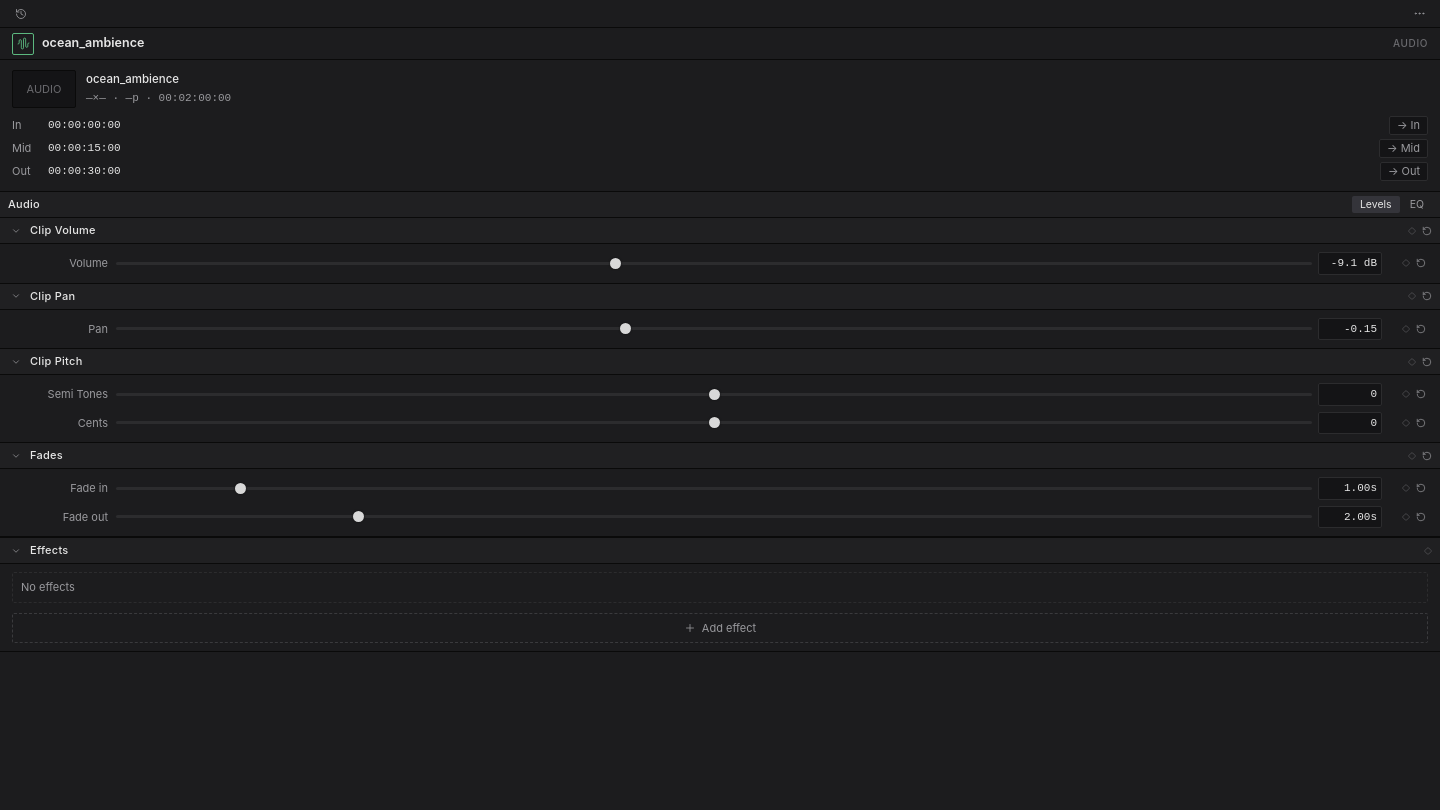
Test: Inspector (R20-W3 D4 — type-driven, no tab strip) › Audio sub-tabs: tablist semantics with tab/tabpanel pairing (spec 18 §11.6)
Expected: the panel named "Levels" is shown, [0,218,1439,537]
Note: switching hides/shows the pair (aria-labelledby back-references)
Click the tab with test id "shell-inspector-subtab-eq" at x=1417, y=204, box [1402,196,1432,213]
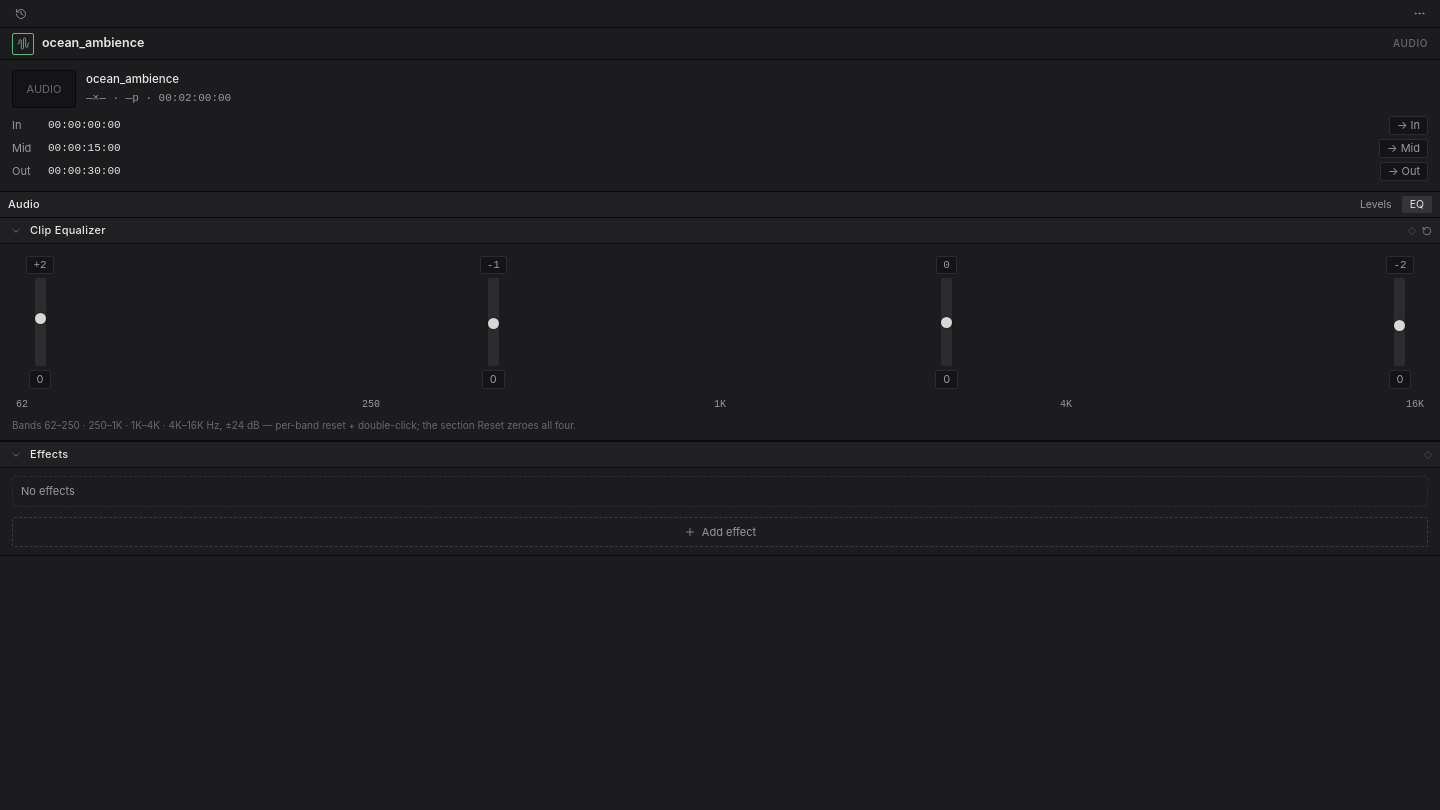
Expected: the panel with id "insp-audio-eq" is shown, [0,218,1439,441]
Expected: the element with test id "shell-inspector-eq" is shown, [12,252,1428,389]
